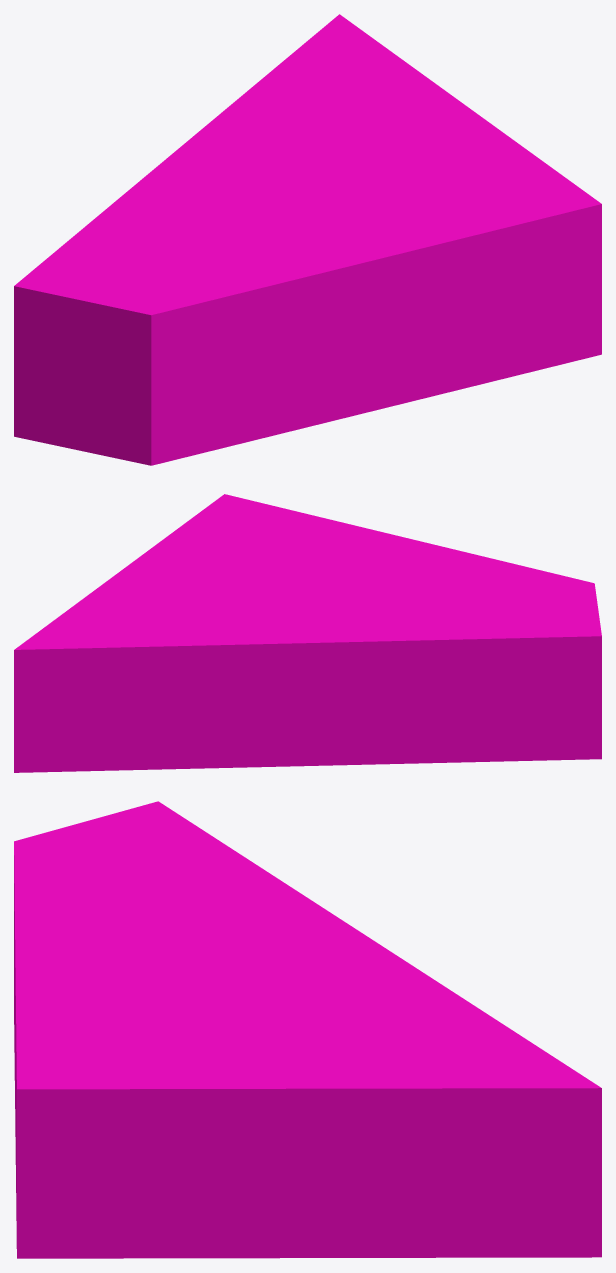
File: purple.fbx
3 views of the same model, one above another, from view 1: azimuth 30°, elevation 25°; view 2: azimuth 150°, elevation 25°; view 3: azimuth 270°, elevation 25° (orthographic). The views are drawn at different scales.
Visible parts, largest first — view 1: Curve.005; view 2: Curve.005; view 3: Curve.005.
Part boxes in pixels (<box>): Curve.005: <box>14,14,601,465</box>; Curve.005: <box>14,494,601,772</box>; Curve.005: <box>14,801,601,1258</box>.
Bounding box in the file's own units: 10.95 × 3 × 9.44.
